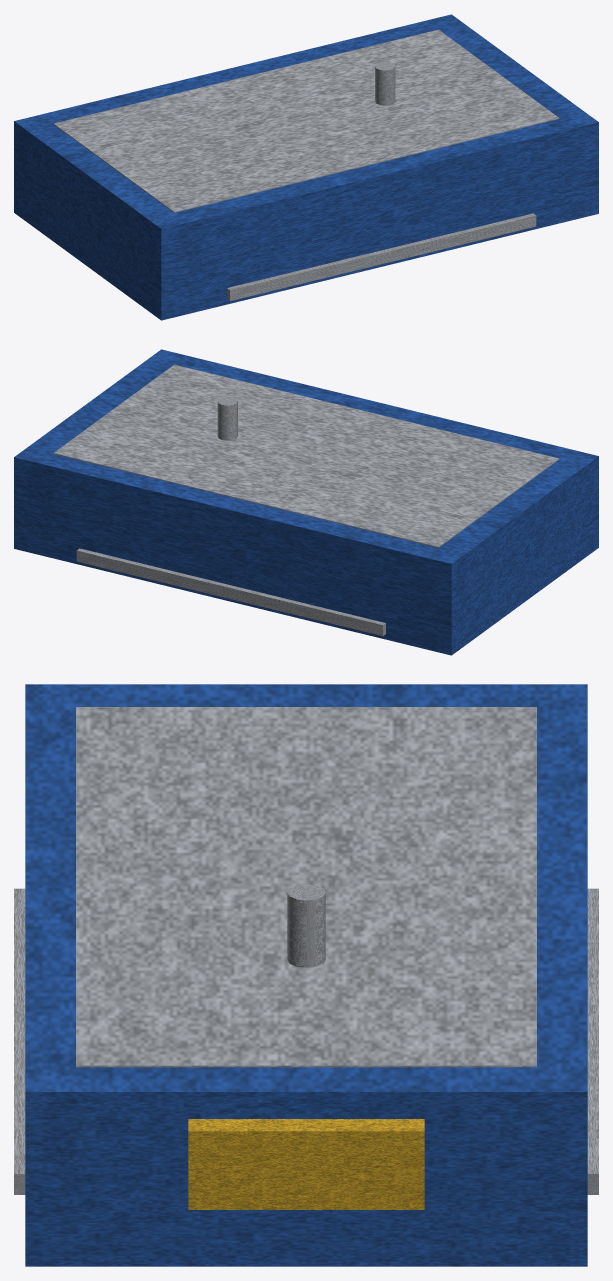
File: chassis_large.obj
3 views of the same model, one above another, from view 1: azimuth 30°, elevation 25°; view 2: azimuth 150°, elevation 25°; view 3: azimuth 270°, elevation 25° (orthographic). The views are drawn at different scales.
Bounding box in the file's own units: 0.618 × 0.1674 × 0.364.
4 materials, 4 textured.
